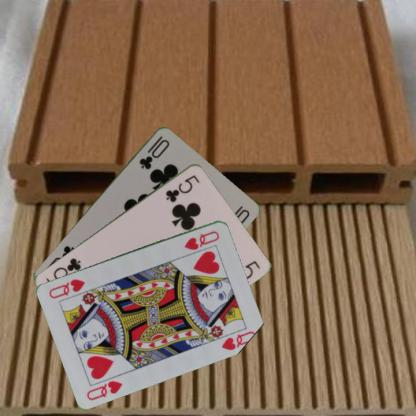10c: (136, 133, 171, 170)
5c: (163, 172, 201, 204)
Qh: (84, 377, 124, 402), (181, 228, 221, 251)
